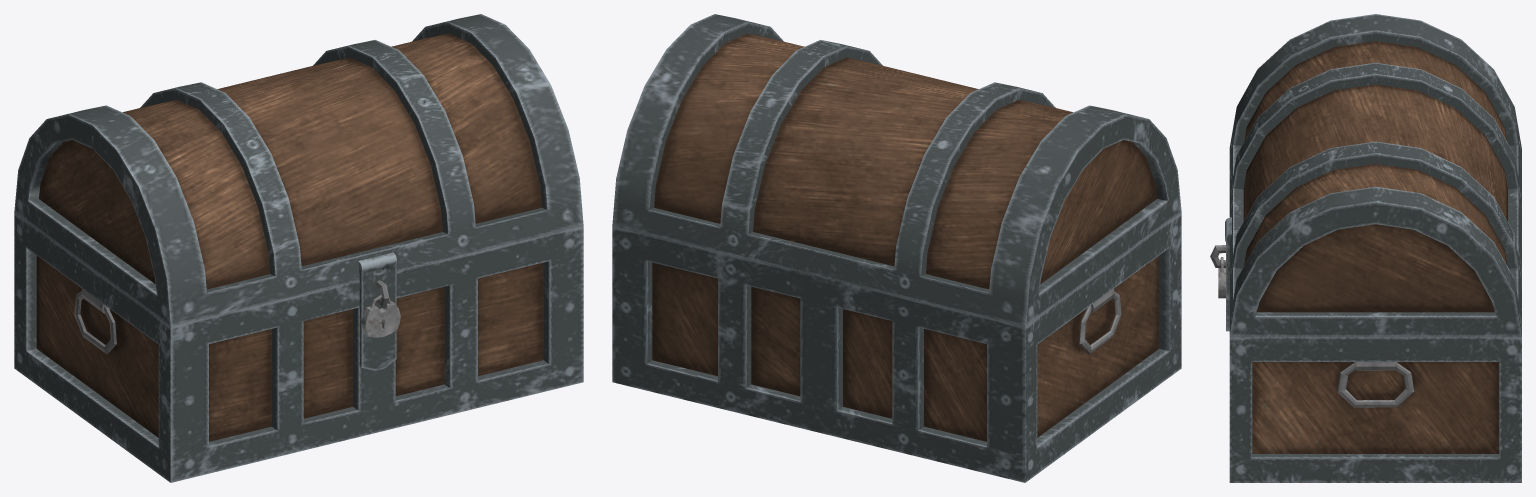
Rendered from chest.glb.
The picture shows the model from 3 angles, left to right: view 1: azimuth 30°, elevation 25°; view 2: azimuth 150°, elevation 25°; view 3: azimuth 270°, elevation 25°; orthographic projection. The views are drawn at different scales.
Visible parts, largest first — view 1: Object_2; view 2: Object_2; view 3: Object_2.
Boxes of the visible parts, x1,y1,x2,y2 form: Object_2: (14, 14, 583, 482); Object_2: (612, 14, 1181, 482); Object_2: (1210, 14, 1521, 482).
Size of the model in its own units: 3.88 by 2.69 by 2.71.
Materials: 1 (1 with a texture image).
